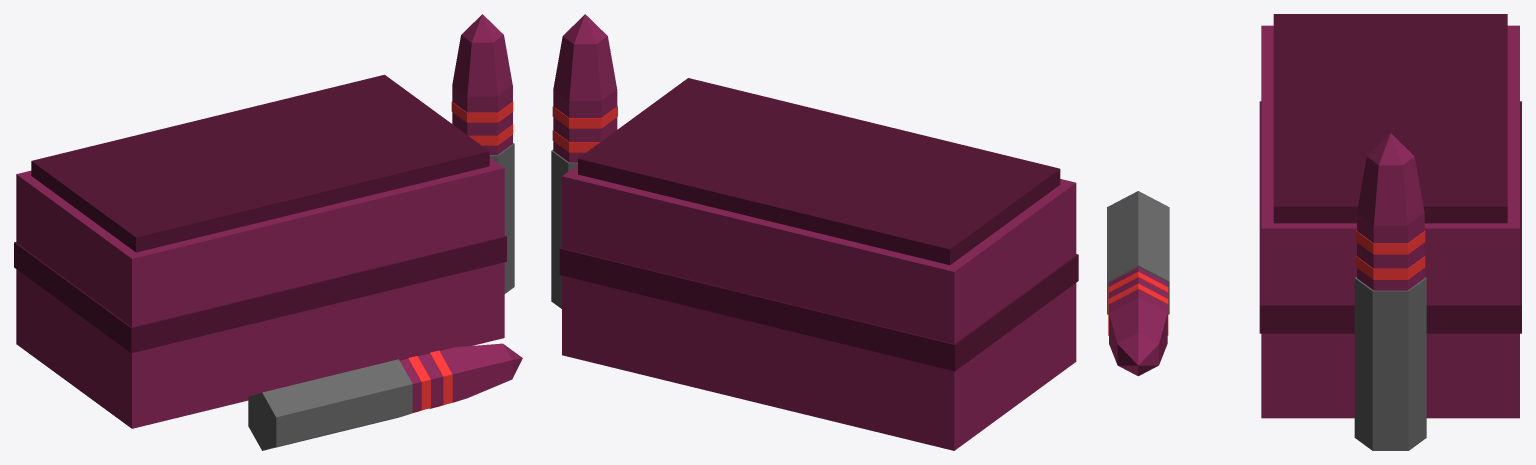
The model's file is ce_ammo2_rcl84_thermo_c.obj.
3 views of the same model, side by side, from view 1: azimuth 30°, elevation 25°; view 2: azimuth 150°, elevation 25°; view 3: azimuth 270°, elevation 25° (orthographic). The views are drawn at different scales.
Visible parts, largest first — view 1: ce_ammo2_rcl84_thermo_c_0, ce_ammo2_rcl84_thermo_c_1, ce_ammo2_rcl84_thermo_c_2, ce_ammo2_rcl84_thermo_c_11, ce_ammo2_rcl84_thermo_c_9, ce_ammo2_rcl84_thermo_c_17, ce_ammo2_rcl84_thermo_c_3, ce_ammo2_rcl84_thermo_c_8, ce_ammo2_rcl84_thermo_c_16, ce_ammo2_rcl84_thermo_c_6, ce_ammo2_rcl84_thermo_c_10, ce_ammo2_rcl84_thermo_c_7 (+4 smaller); view 2: ce_ammo2_rcl84_thermo_c_0, ce_ammo2_rcl84_thermo_c_1, ce_ammo2_rcl84_thermo_c_2, ce_ammo2_rcl84_thermo_c_9, ce_ammo2_rcl84_thermo_c_3, ce_ammo2_rcl84_thermo_c_8, ce_ammo2_rcl84_thermo_c_6, ce_ammo2_rcl84_thermo_c_10, ce_ammo2_rcl84_thermo_c_7; view 3: ce_ammo2_rcl84_thermo_c_1, ce_ammo2_rcl84_thermo_c_0, ce_ammo2_rcl84_thermo_c_3, ce_ammo2_rcl84_thermo_c_2, ce_ammo2_rcl84_thermo_c_11, ce_ammo2_rcl84_thermo_c_9, ce_ammo2_rcl84_thermo_c_17, ce_ammo2_rcl84_thermo_c_18, ce_ammo2_rcl84_thermo_c_8, ce_ammo2_rcl84_thermo_c_6, ce_ammo2_rcl84_thermo_c_10, ce_ammo2_rcl84_thermo_c_7 (+4 smaller).
Part boxes in pixels (box(x1,y1,x2,y2)): ce_ammo2_rcl84_thermo_c_0: box(16, 157, 504, 428); ce_ammo2_rcl84_thermo_c_1: box(31, 74, 489, 252); ce_ammo2_rcl84_thermo_c_2: box(14, 235, 506, 353); ce_ammo2_rcl84_thermo_c_11: box(248, 359, 412, 450); ce_ammo2_rcl84_thermo_c_9: box(452, 35, 512, 96); ce_ammo2_rcl84_thermo_c_17: box(455, 343, 512, 397); ce_ammo2_rcl84_thermo_c_3: box(489, 143, 514, 293); ce_ammo2_rcl84_thermo_c_8: box(452, 85, 512, 112); ce_ammo2_rcl84_thermo_c_16: box(439, 347, 467, 403); ce_ammo2_rcl84_thermo_c_6: box(452, 112, 512, 135); ce_ammo2_rcl84_thermo_c_10: box(461, 14, 503, 42); ce_ammo2_rcl84_thermo_c_7: box(451, 101, 513, 122); ce_ammo2_rcl84_thermo_c_0: box(562, 165, 1076, 450); ce_ammo2_rcl84_thermo_c_1: box(578, 78, 1060, 264); ce_ammo2_rcl84_thermo_c_2: box(559, 247, 1078, 371); ce_ammo2_rcl84_thermo_c_9: box(553, 36, 616, 100); ce_ammo2_rcl84_thermo_c_3: box(551, 149, 577, 308); ce_ammo2_rcl84_thermo_c_8: box(553, 89, 617, 117); ce_ammo2_rcl84_thermo_c_6: box(553, 117, 617, 141); ce_ammo2_rcl84_thermo_c_10: box(563, 14, 607, 44); ce_ammo2_rcl84_thermo_c_7: box(552, 106, 617, 128); ce_ammo2_rcl84_thermo_c_1: box(1273, 14, 1507, 223); ce_ammo2_rcl84_thermo_c_0: box(1261, 25, 1519, 418); ce_ammo2_rcl84_thermo_c_3: box(1354, 277, 1426, 450); ce_ammo2_rcl84_thermo_c_2: box(1259, 101, 1521, 333); ce_ammo2_rcl84_thermo_c_11: box(1107, 191, 1169, 314); ce_ammo2_rcl84_thermo_c_9: box(1357, 156, 1424, 225); ce_ammo2_rcl84_thermo_c_17: box(1109, 297, 1167, 364); ce_ammo2_rcl84_thermo_c_18: box(1117, 333, 1158, 376); ce_ammo2_rcl84_thermo_c_8: box(1357, 213, 1424, 243); ce_ammo2_rcl84_thermo_c_6: box(1357, 242, 1424, 268); ce_ammo2_rcl84_thermo_c_10: box(1367, 133, 1414, 165); ce_ammo2_rcl84_thermo_c_7: box(1356, 230, 1425, 254).
Size of the model in its own units: 0.9087 by 0.546 by 0.6737.
